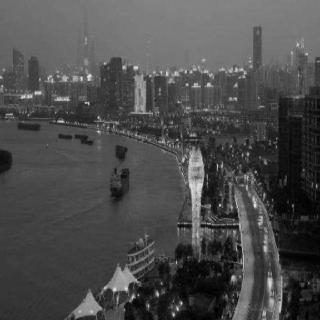other: (18, 67, 102, 105), (228, 143, 268, 183)
